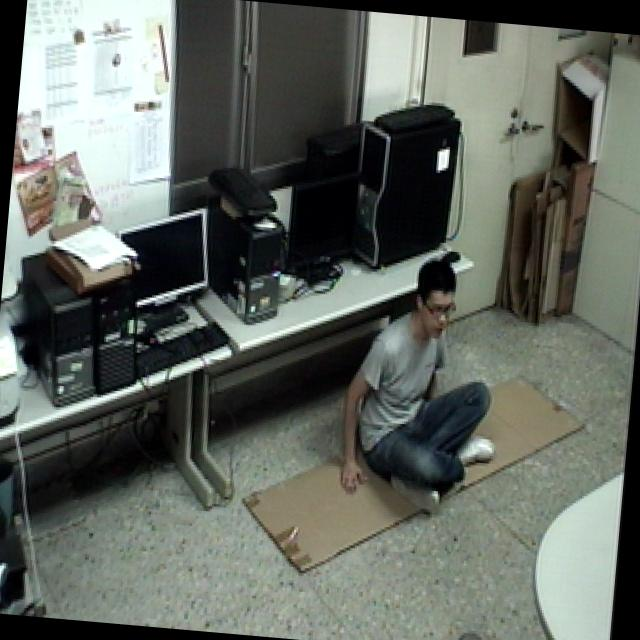sit: (332, 241, 518, 524)
